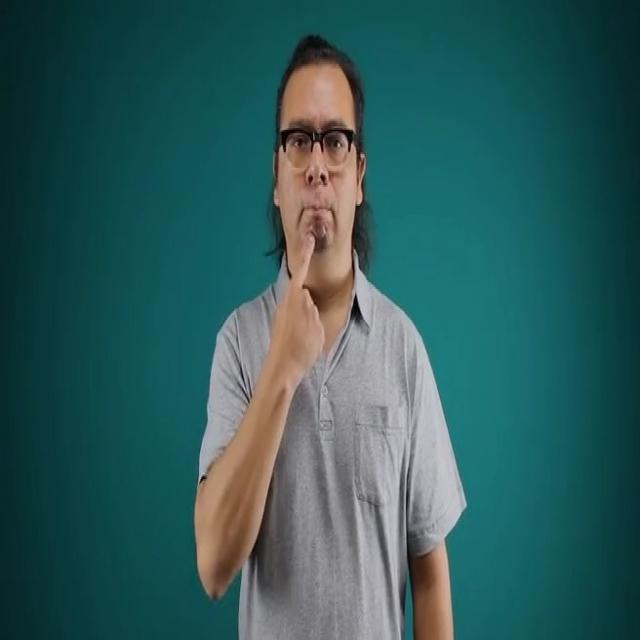bitter: (255, 154, 378, 493)
